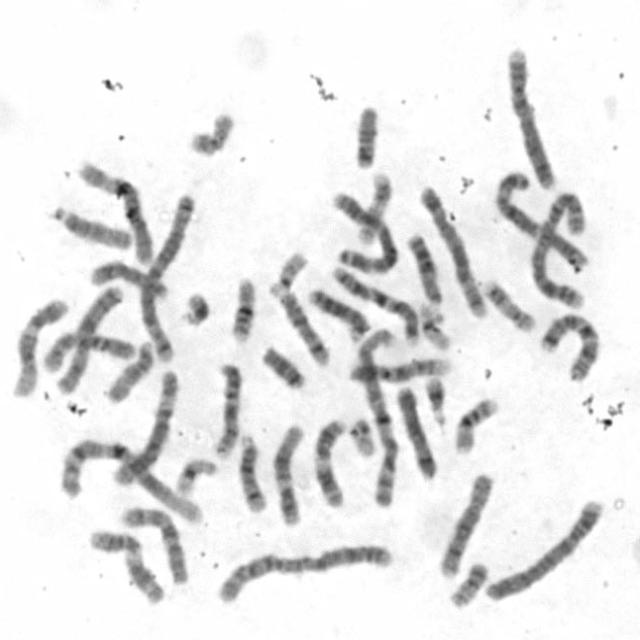A1: (55, 435, 204, 526), (353, 326, 399, 509)
A2: (210, 539, 394, 605), (526, 188, 591, 311)
A3: (490, 166, 590, 273), (328, 188, 399, 276)
B4: (482, 494, 606, 604), (501, 43, 559, 192)
B5: (415, 180, 490, 320), (88, 260, 176, 368)
C10: (117, 502, 190, 584), (36, 327, 138, 374)
C11: (84, 524, 166, 608), (310, 413, 348, 510)
C12: (8, 294, 69, 399), (270, 421, 306, 528)
C6: (108, 364, 181, 489), (74, 158, 156, 266)
C7: (327, 263, 421, 344), (535, 308, 601, 385)
C8: (433, 469, 497, 580), (144, 192, 199, 304)
C9: (209, 358, 244, 462), (346, 356, 456, 386)
D13: (303, 285, 370, 343), (403, 230, 445, 307)
D14: (276, 287, 331, 367), (234, 432, 268, 513)
D15: (46, 202, 134, 251), (102, 337, 157, 405)
E16: (450, 394, 500, 456), (226, 273, 257, 346)
E17: (479, 275, 538, 334), (354, 169, 394, 246)
E18: (259, 342, 307, 392), (351, 102, 380, 171)
F19: (172, 455, 219, 498), (417, 301, 453, 352)
F20: (184, 106, 237, 159), (445, 558, 491, 610)
G21: (421, 372, 449, 427), (177, 288, 213, 328)
G22: (266, 246, 310, 297), (347, 413, 378, 459)
X: (51, 280, 125, 397), (392, 382, 440, 481)
